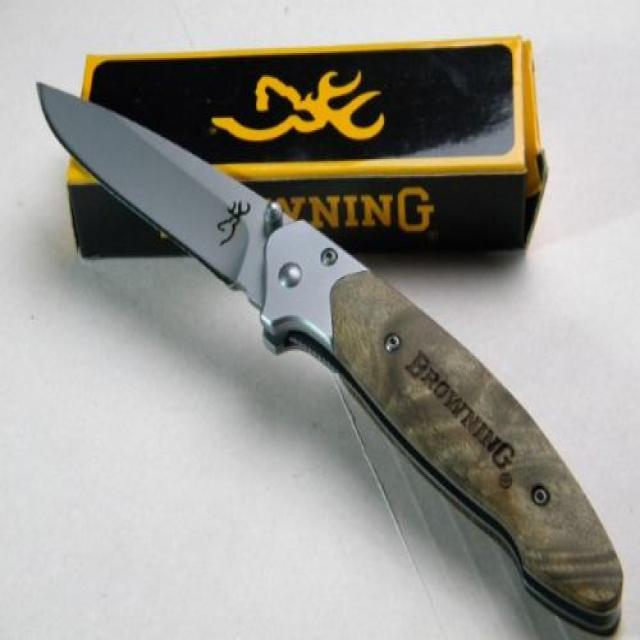knife: (25, 67, 640, 640)
